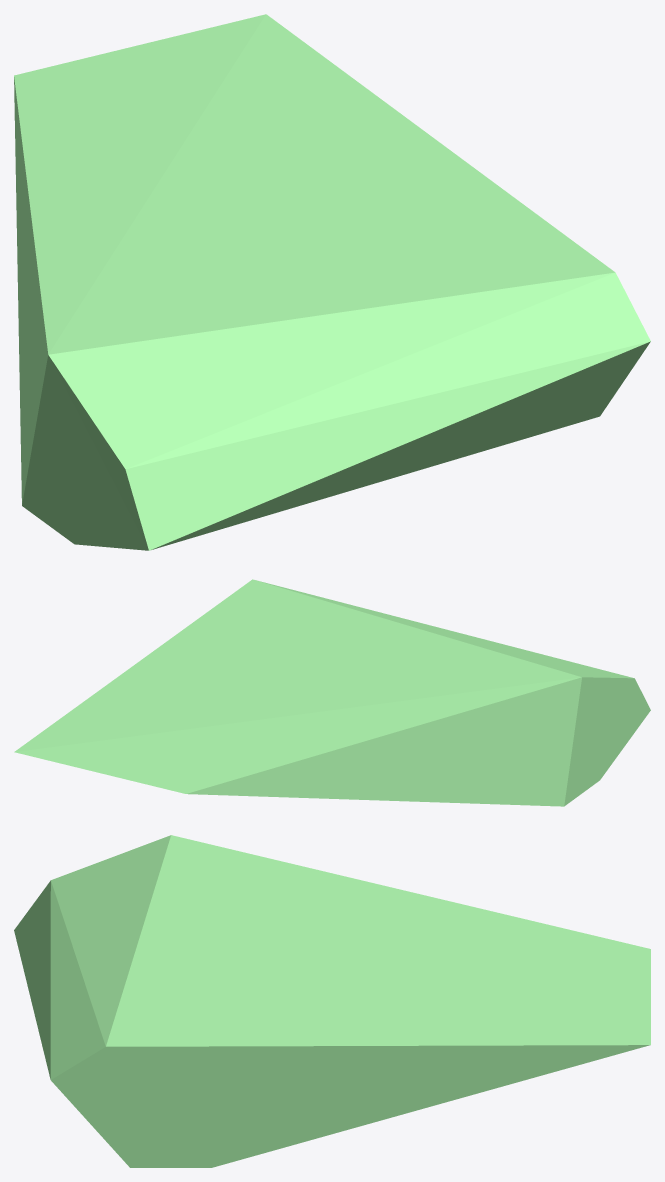
The model's file is dxxx_Lp21_respondable_PSM1_coll_6.dae.
3 renders of one model, top to bottom at view 1: azimuth 30°, elevation 25°; view 2: azimuth 150°, elevation 25°; view 3: azimuth 270°, elevation 25°, orthographic. The views are drawn at different scales.
Visible parts, largest first — view 1: Node_000001D818CBBB90; view 2: Node_000001D818CBBB90; view 3: Node_000001D818CBBB90.
Part boxes in pixels (<box>): Node_000001D818CBBB90: <box>14,14,650,550</box>; Node_000001D818CBBB90: <box>14,579,650,806</box>; Node_000001D818CBBB90: <box>14,835,650,1167</box>.
Size of the model in its own units: 0.025 by 0.00776 by 0.0337.
